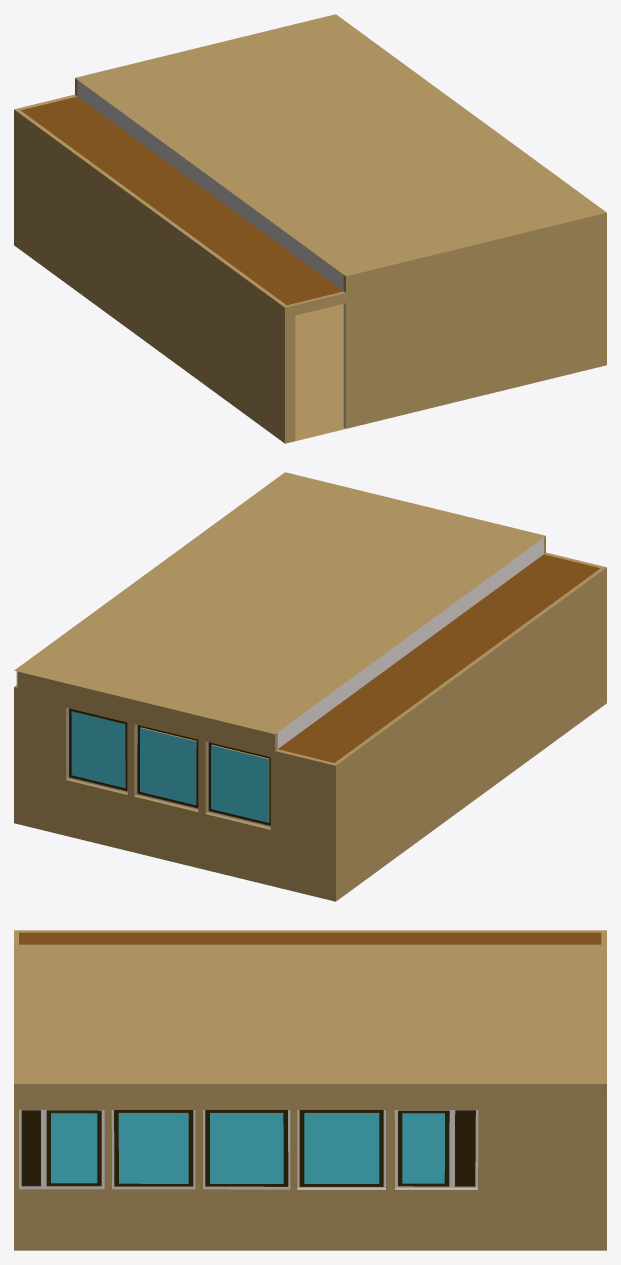
The model's file is TempRoom.fbx.
3 renders of one model, top to bottom at view 1: azimuth 30°, elevation 25°; view 2: azimuth 150°, elevation 25°; view 3: azimuth 270°, elevation 25°, orthographic. The views are drawn at different scales.
Visible parts, largest first — view 1: Trimming Room; view 2: Trimming Room; view 3: Trimming Room.
Part boxes in pixels (x1=…): Trimming Room: x1=14, y1=14, x2=606, y2=443; Trimming Room: x1=14, y1=472, x2=606, y2=901; Trimming Room: x1=14, y1=930, x2=606, y2=1250.
Size of the model in its own units: 5.49 by 2.49 by 8.01.
